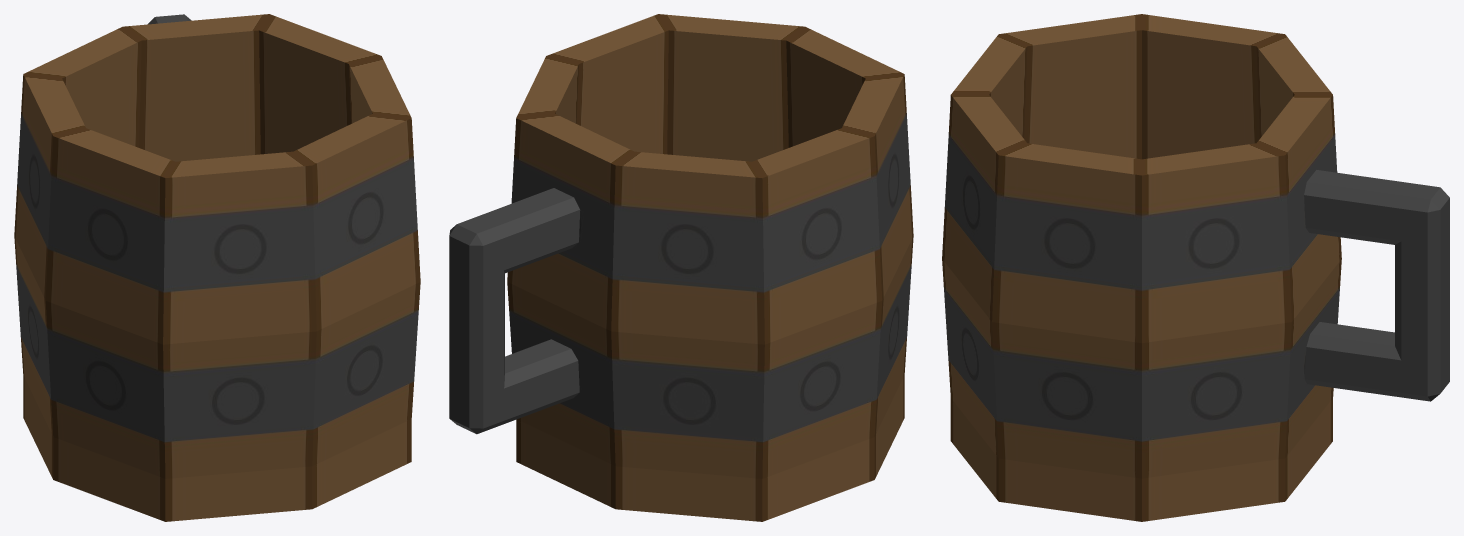
File: mug.glb
3 renders of one model, left to right at view 1: azimuth 30°, elevation 25°; view 2: azimuth 150°, elevation 25°; view 3: azimuth 270°, elevation 25°, orthographic.
Visible parts, largest first — view 1: Mug; view 2: Mug; view 3: Mug.
Part boxes in pixels (box(x1,y1,x2,y2)): Mug: box(14, 14, 420, 521); Mug: box(449, 14, 913, 521); Mug: box(942, 14, 1449, 521).
Size of the model in its own units: 2.09 by 2 by 2.66.
Materials: 2 (1 with a texture image).
